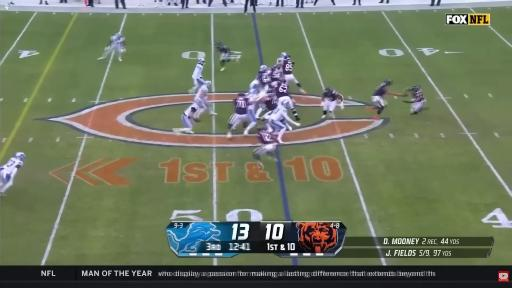Helmet: (16, 153, 25, 161), (195, 97, 202, 104), (199, 58, 205, 65), (258, 127, 266, 132), (385, 79, 391, 85), (206, 81, 213, 86), (411, 85, 419, 89), (325, 87, 330, 93), (282, 53, 288, 58), (238, 94, 245, 98), (285, 56, 291, 60)
Jersey: (2, 158, 23, 174), (234, 96, 249, 114), (269, 106, 287, 121), (195, 85, 208, 105), (257, 69, 272, 86), (264, 94, 278, 111), (184, 103, 199, 118), (275, 82, 289, 98), (258, 131, 274, 145), (247, 92, 259, 110), (373, 83, 388, 97), (323, 90, 342, 101), (283, 58, 294, 74), (192, 63, 203, 79), (271, 66, 282, 81), (111, 35, 124, 47), (413, 90, 425, 102), (219, 46, 230, 53)
Player: (268, 102, 300, 143), (370, 80, 403, 119), (271, 80, 300, 120), (0, 152, 25, 195), (253, 126, 277, 169), (244, 90, 267, 134), (227, 93, 249, 138), (282, 53, 306, 94), (194, 81, 217, 121), (173, 103, 199, 133), (98, 33, 125, 61), (321, 87, 344, 118), (216, 41, 237, 71), (403, 86, 425, 114), (261, 88, 278, 121), (189, 58, 205, 93), (250, 66, 268, 92), (258, 69, 272, 94), (271, 58, 284, 82)
